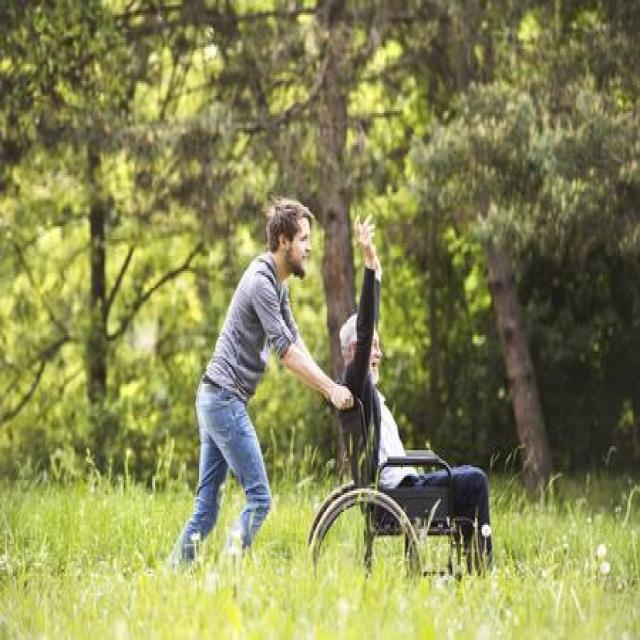wheelchairs: (304, 380, 496, 584)
